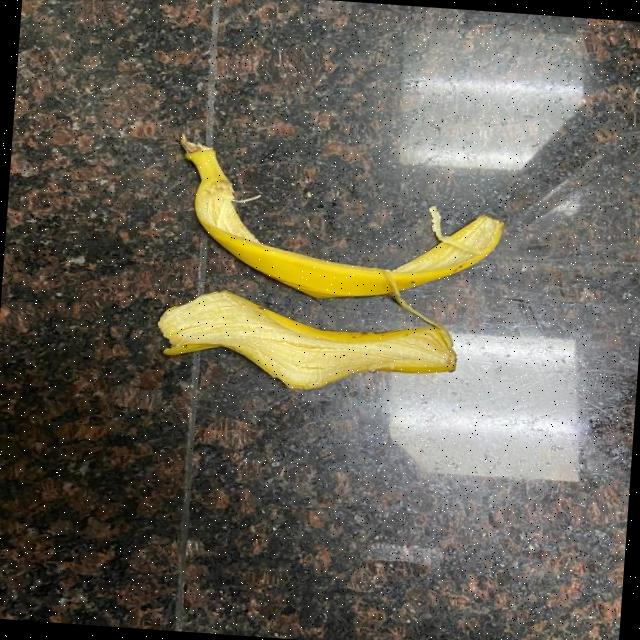banana-peel: (167, 130, 508, 312), (152, 283, 460, 402)
